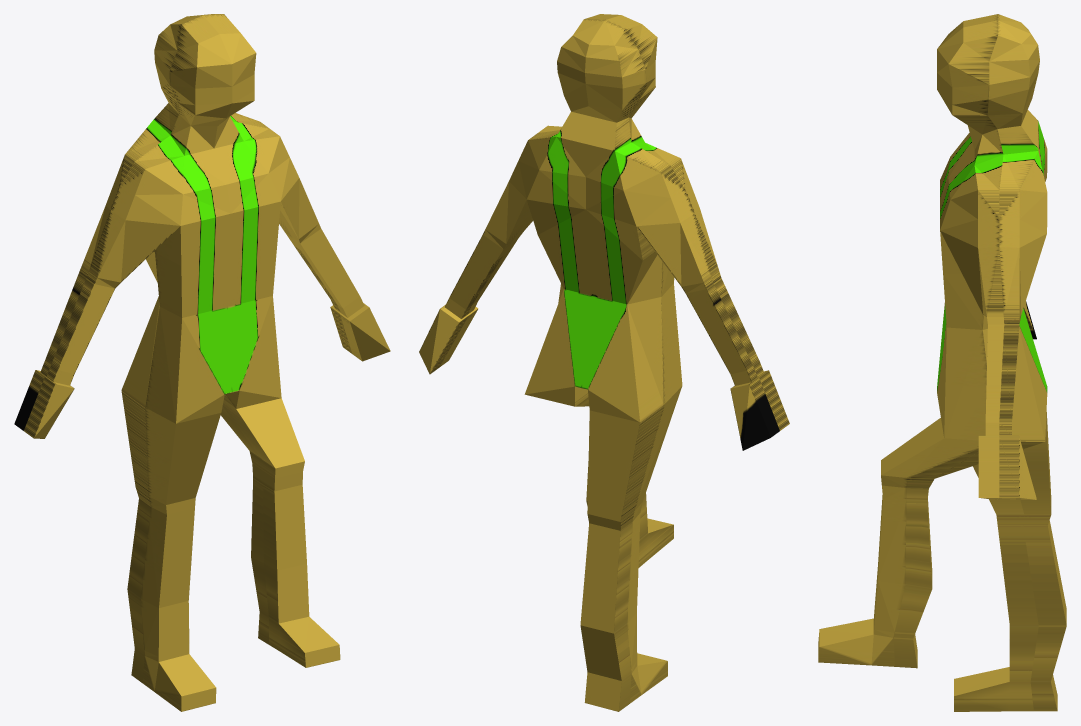
3 views of the same model, side by side, from view 1: azimuth 30°, elevation 25°; view 2: azimuth 150°, elevation 25°; view 3: azimuth 270°, elevation 25° (orthographic). The views are drawn at different scales.
Visible parts, largest first — view 1: Borat; view 2: Borat; view 3: Borat.
Part boxes in pixels (left/top/right/bottom): Borat: left=14, top=14, right=390, bottom=711; Borat: left=419, top=14, right=789, bottom=711; Borat: left=818, top=14, right=1066, bottom=711.
Bounding box in the file's own units: 1.79 × 3.21 × 1.04.
